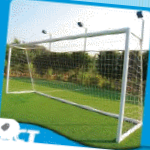goals: (7, 26, 143, 143)
